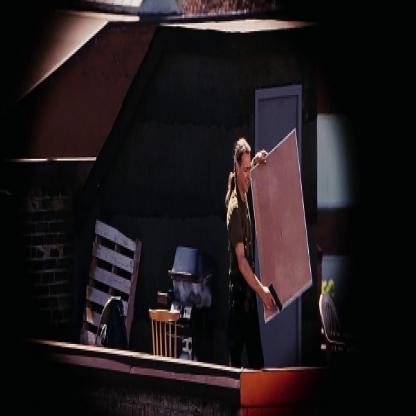Guns: (266, 280, 284, 318)
